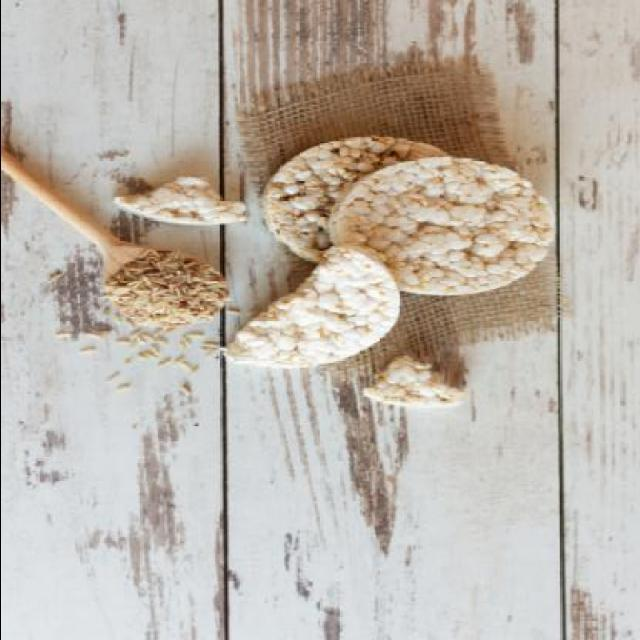Gallette di riso packaged: (328, 153, 550, 302), (210, 249, 404, 369)
